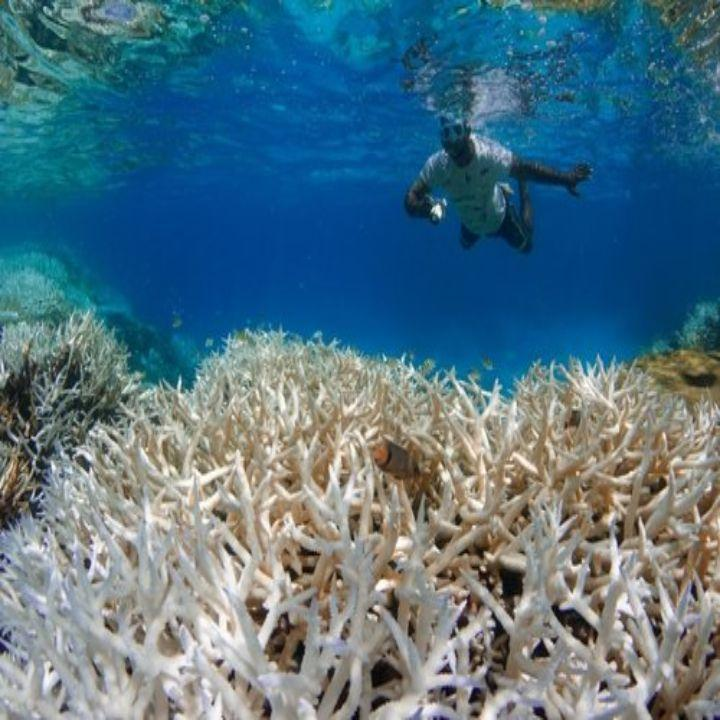Bleached-disease: (0, 312, 720, 720), (0, 313, 135, 530)
